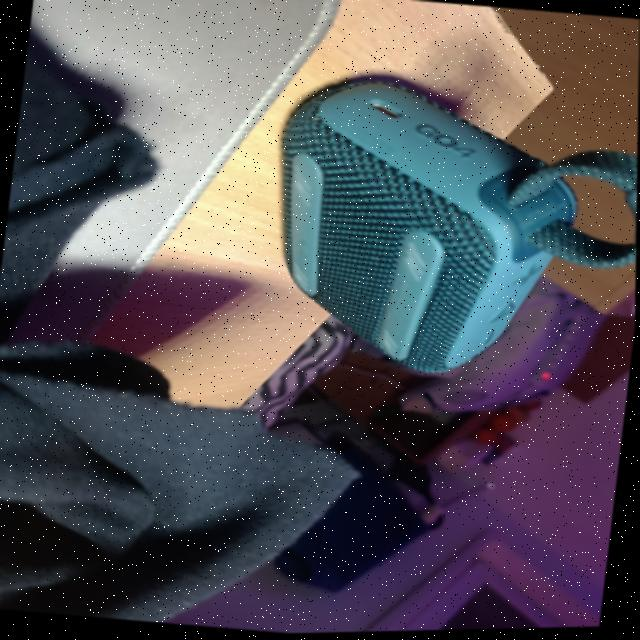column JBL: (245, 59, 639, 413)
